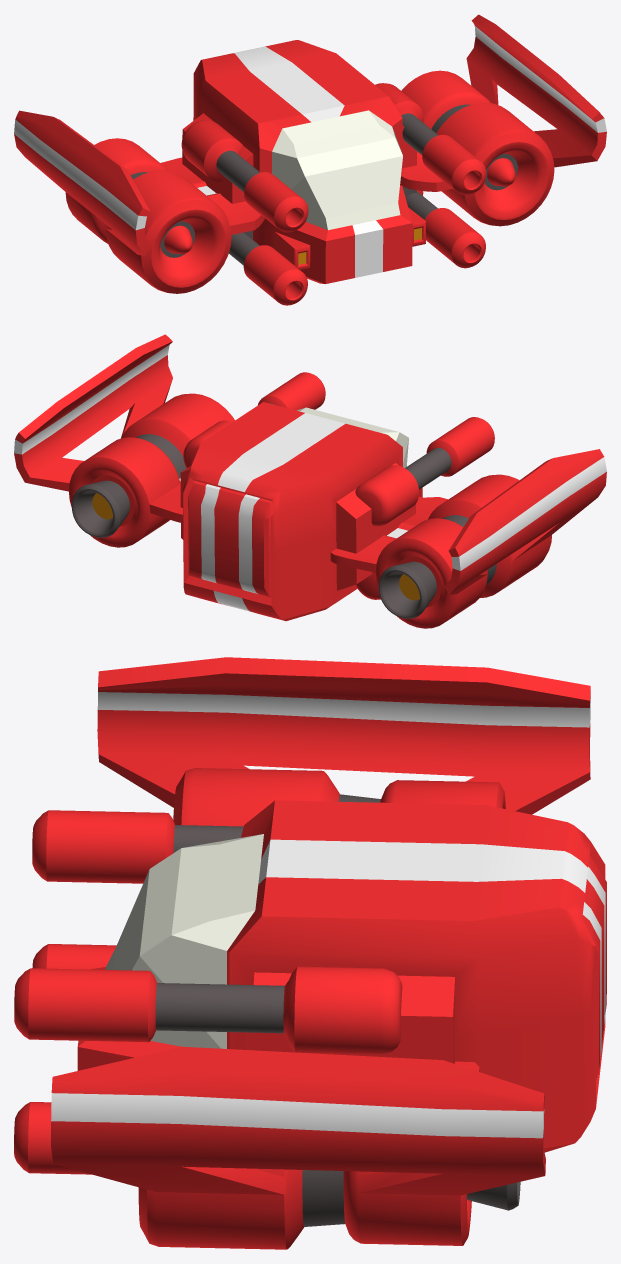
The model's file is cartoon_spaceship_red.fbx.
3 renders of one model, top to bottom at view 1: azimuth 30°, elevation 25°; view 2: azimuth 150°, elevation 25°; view 3: azimuth 270°, elevation 25°, orthographic. The views are drawn at different scales.
Visible parts, largest first — view 1: Cube.003; view 2: Cube.003; view 3: Cube.003.
Part boxes in pixels (box(x1,y1,x2,y2)): Cube.003: box(14, 14, 606, 305); Cube.003: box(14, 334, 606, 628); Cube.003: box(14, 657, 606, 1249).
Size of the model in its own units: 2.09 by 0.6117 by 1.24.
